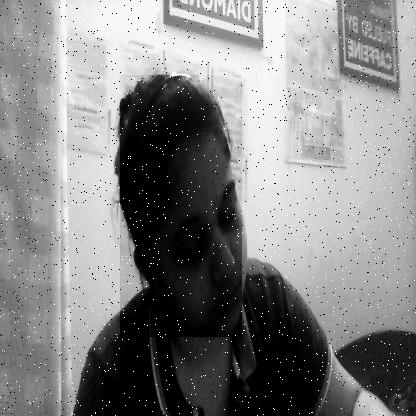Distracted: (120, 75, 242, 337)
